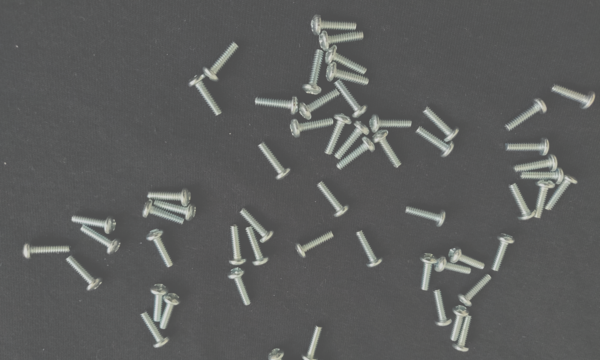shortscrew: (504, 97, 548, 133), (203, 41, 240, 83), (188, 74, 223, 117), (65, 256, 103, 293), (257, 141, 292, 181), (423, 106, 461, 142), (334, 81, 369, 120), (326, 44, 368, 76), (316, 180, 351, 218), (336, 137, 375, 171), (336, 121, 370, 160), (372, 128, 403, 169), (299, 89, 340, 120), (80, 225, 122, 255), (551, 83, 597, 110), (139, 310, 170, 350), (240, 208, 274, 244), (416, 127, 455, 158), (547, 172, 578, 211), (325, 113, 352, 155), (508, 182, 537, 221), (295, 231, 335, 259), (142, 200, 184, 226), (459, 274, 492, 307), (356, 229, 383, 269), (147, 228, 173, 268), (327, 62, 370, 86), (290, 116, 334, 139), (302, 49, 324, 95), (311, 14, 357, 35), (22, 241, 71, 260), (405, 205, 447, 227), (320, 30, 364, 51), (71, 214, 117, 234), (228, 267, 251, 307), (247, 226, 270, 266), (154, 200, 196, 221), (505, 137, 551, 156), (449, 247, 487, 270), (370, 114, 413, 134), (493, 233, 515, 272), (254, 96, 299, 115), (160, 293, 182, 331), (148, 188, 192, 207), (533, 181, 555, 219), (519, 167, 565, 185), (303, 324, 325, 360), (514, 155, 558, 173), (150, 283, 169, 323), (434, 289, 453, 328), (453, 316, 473, 353), (229, 225, 247, 266), (434, 255, 472, 274), (451, 304, 470, 342), (420, 252, 438, 291), (267, 349, 292, 360), (287, 359, 325, 360)
